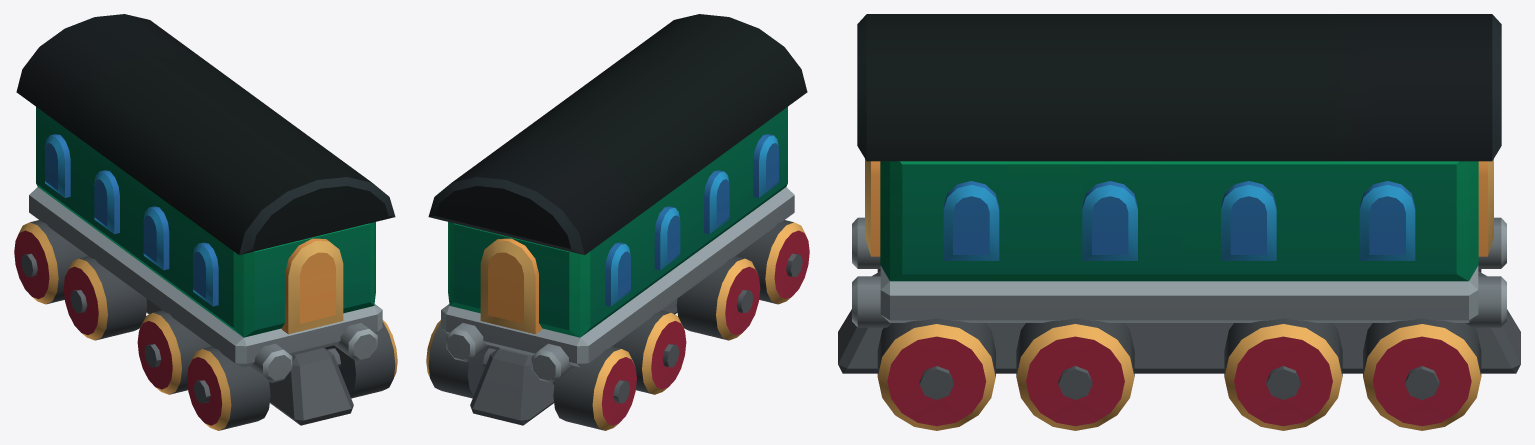
The model's file is tagvagn.glb.
3 views of the same model, side by side, from view 1: azimuth 30°, elevation 25°; view 2: azimuth 150°, elevation 25°; view 3: azimuth 270°, elevation 25° (orthographic). The views are drawn at different scales.
Parts seen in each view (by area): view 1: train_wagon; view 2: train_wagon; view 3: train_wagon.
Part boxes in pixels (left/top/right/bottom): train_wagon: left=14, top=14, right=397, bottom=430; train_wagon: left=426, top=14, right=809, bottom=430; train_wagon: left=838, top=14, right=1520, bottom=430.
Bounding box in the file's own units: 0.4324 × 0.5504 × 0.9847.
1 material, 1 textured.
